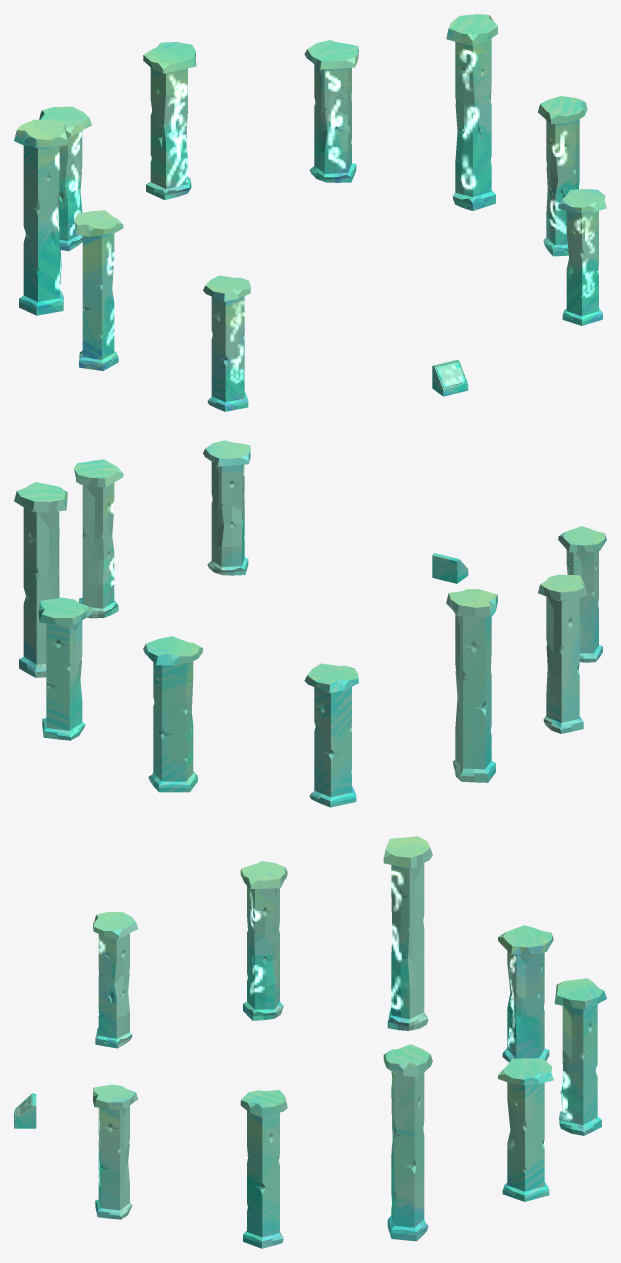
File: temple.glb
The picture shows the model from 3 angles, top to bottom: view 1: azimuth 30°, elevation 25°; view 2: azimuth 150°, elevation 25°; view 3: azimuth 270°, elevation 25°; orthographic projection.
Parts seen in each view (by area): view 1: temple; view 2: temple; view 3: temple.
Part boxes in pixels (x1,y1,x2,y2): temple: (14, 14, 606, 411); temple: (14, 440, 606, 807); temple: (14, 836, 606, 1248).
Bounding box in the file's own units: 89.96 × 30.07 × 90.66.
Materials: 1 (1 with a texture image).
